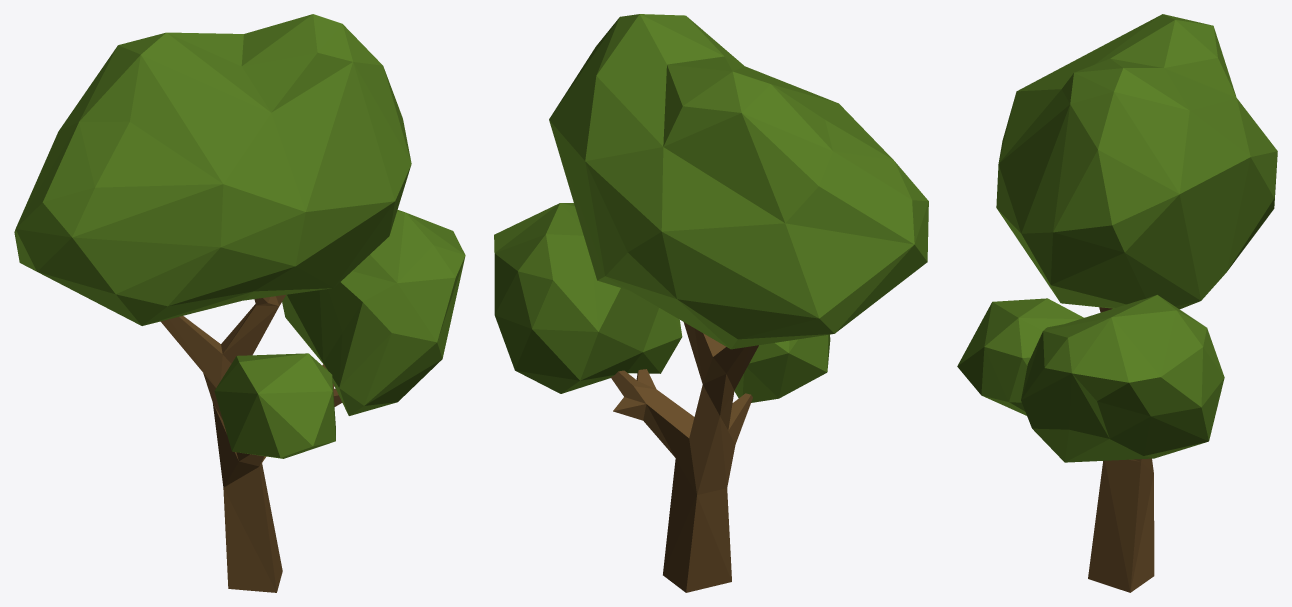
The model's file is temp-decid.tall-op0.5.gltf.
3 views of the same model, side by side, from view 1: azimuth 30°, elevation 25°; view 2: azimuth 150°, elevation 25°; view 3: azimuth 270°, elevation 25° (orthographic). The views are drawn at different scales.
Parts seen in each view (by area): view 1: Tree1_1; view 2: Tree1_1; view 3: Tree1_1.
Part boxes in pixels (left/top/right/bottom): Tree1_1: left=14, top=14, right=465, bottom=592; Tree1_1: left=494, top=14, right=928, bottom=592; Tree1_1: left=957, top=14, right=1277, bottom=592.
Bounding box in the file's own units: 5.97 × 7.35 × 3.97.
1 material, 1 textured.
